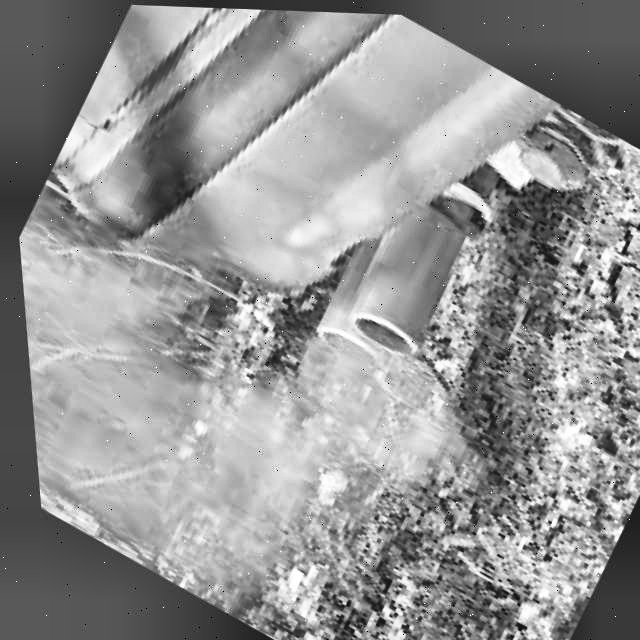Smoke: (8, 132, 477, 637)
